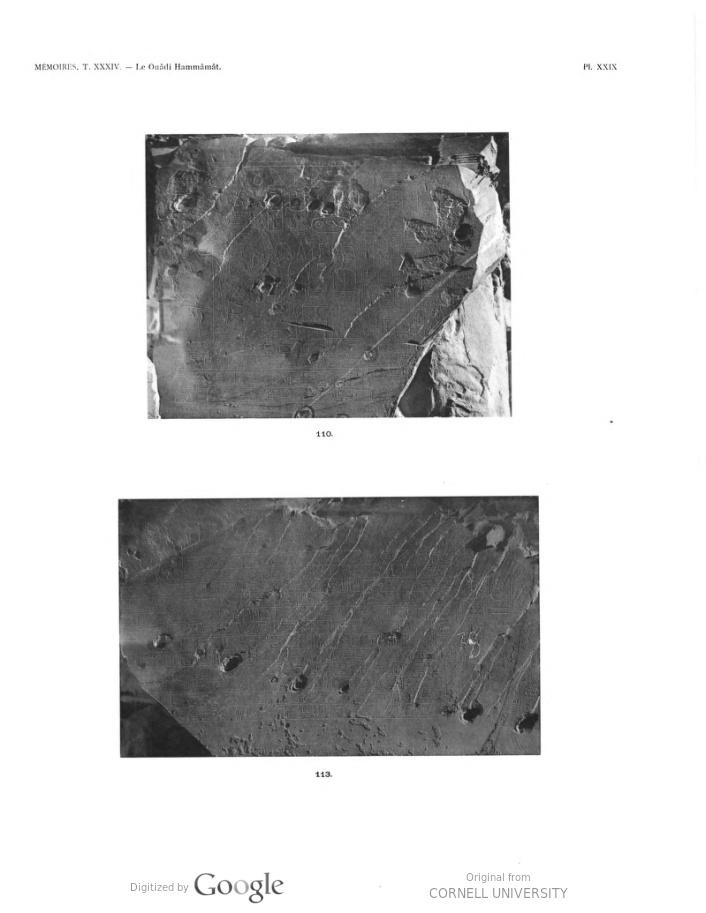circle: (258, 190, 298, 242), (304, 213, 364, 245)
